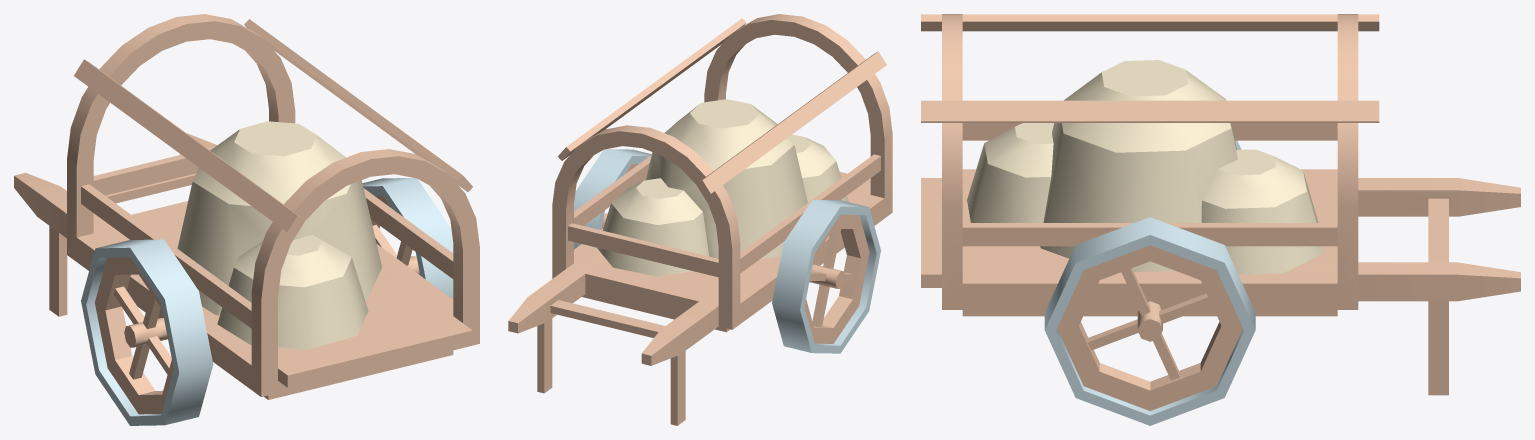
3 views of the same model, side by side, from view 1: azimuth 30°, elevation 25°; view 2: azimuth 150°, elevation 25°; view 3: azimuth 270°, elevation 25° (orthographic). The views are drawn at different scales.
Parts seen in each view (by area): view 1: cartHigh, hay, wheel (×2); view 2: cartHigh, hay, wheel (×2); view 3: cartHigh, hay, wheel.
Part boxes in pixels (x1=…): cartHigh: x1=14, y1=14, x2=479, y2=399; hay: x1=177, y1=121, x2=381, y2=349; wheel (×2): x1=81, y1=178, x2=453, y2=425; cartHigh: x1=508, y1=14, x2=892, y2=425; hay: x1=597, y1=99, x2=848, y2=276; wheel (×2): x1=574, y1=149, x2=880, y2=353; cartHigh: x1=921, y1=14, x2=1520, y2=395; hay: x1=967, y1=60, x2=1323, y2=274; wheel: x1=1044, y1=217, x2=1255, y2=425.
Bounding box in the file's own units: 0.8525 × 0.8605 × 1.44.
